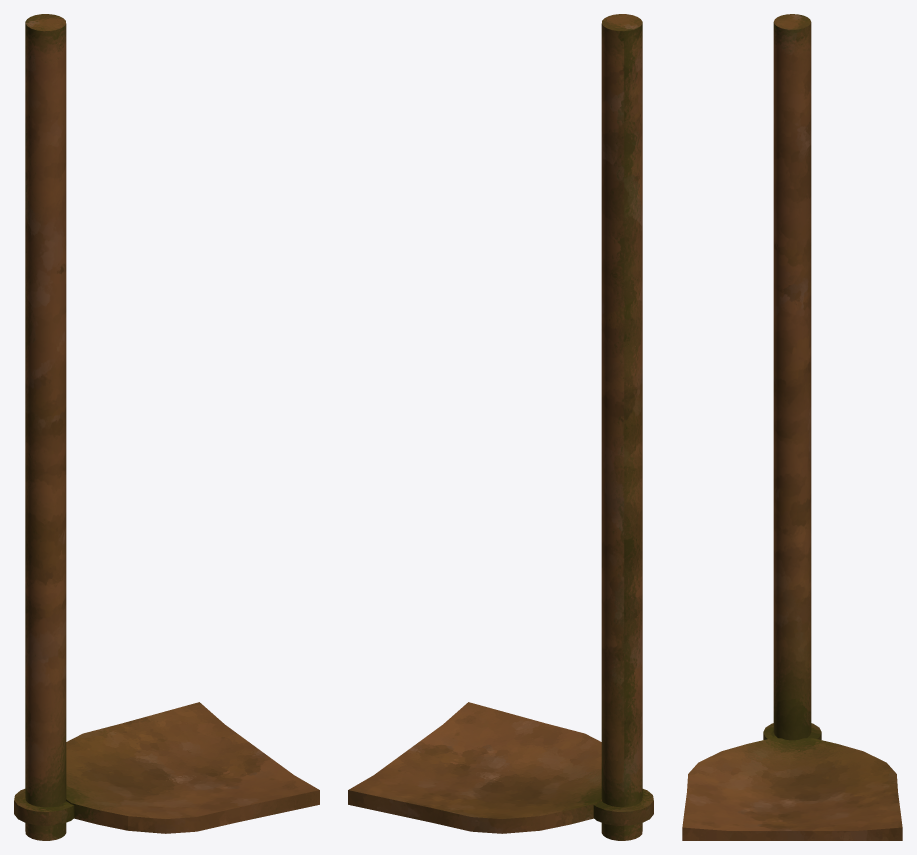
File: Enxada.fbx
3 renders of one model, left to right at view 1: azimuth 30°, elevation 25°; view 2: azimuth 150°, elevation 25°; view 3: azimuth 270°, elevation 25°, orthographic. The views are drawn at different scales.
Visible parts, largest first — view 1: Enxada_MESH; view 2: Enxada_MESH; view 3: Enxada_MESH.
Part boxes in pixels (<box>): Enxada_MESH: <box>14,14,319,840</box>; Enxada_MESH: <box>348,14,653,840</box>; Enxada_MESH: <box>682,14,902,840</box>.
Size of the model in its own units: 33.53 by 107 by 28.92.
Materials: 1 (1 with a texture image).
